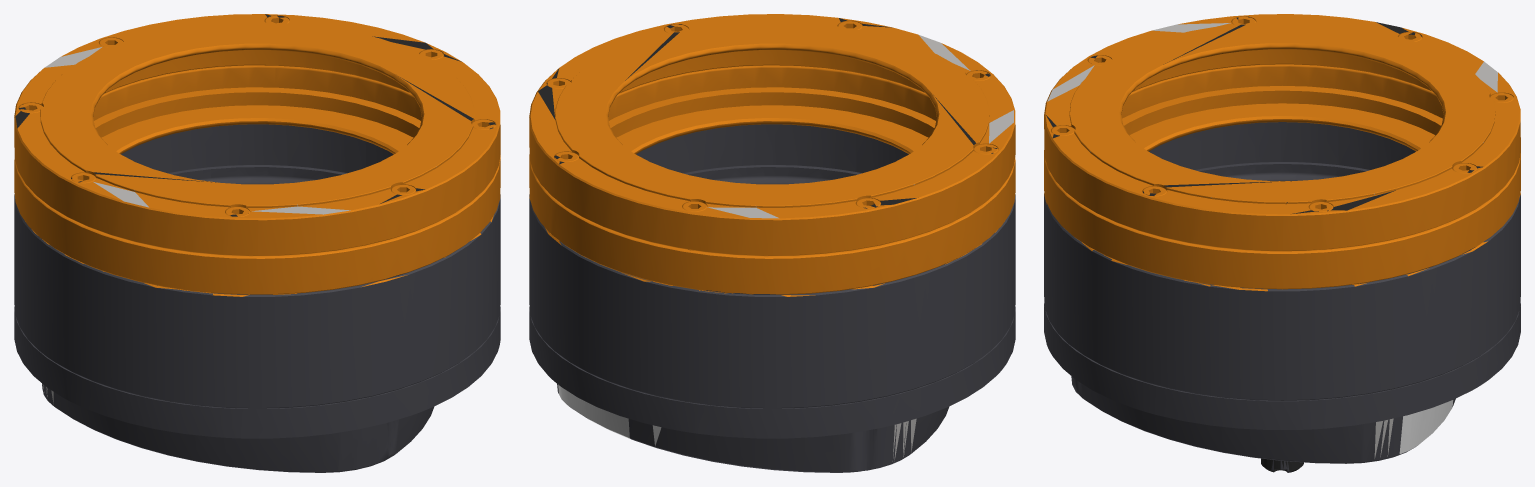
Rendered from motor3.glb.
3 renders of one model, left to right at view 1: azimuth 30°, elevation 25°; view 2: azimuth 150°, elevation 25°; view 3: azimuth 270°, elevation 25°, orthographic. The views are drawn at different scales.
Parts seen in each view (by area): view 1: m2, m3, m4, m0; view 2: m2, m3, m4, m10, m0; view 3: m2, m3, m4, m10, m0.
Part boxes in pixels (x1,y1,x2,y2): m2: [14, 14, 500, 296]; m3: [14, 124, 500, 472]; m4: [42, 47, 436, 405]; m0: [15, 14, 495, 216]; m2: [529, 14, 1015, 296]; m3: [529, 124, 1015, 472]; m4: [607, 35, 1013, 461]; m10: [558, 384, 661, 446]; m0: [538, 18, 997, 208]; m2: [1044, 14, 1520, 291]; m3: [1044, 122, 1520, 472]; m4: [1047, 23, 1497, 458]; m10: [1399, 400, 1453, 453]; m0: [1046, 16, 1482, 213].
Size of the model in its own units: 0.105 by 0.0726 by 0.105.
